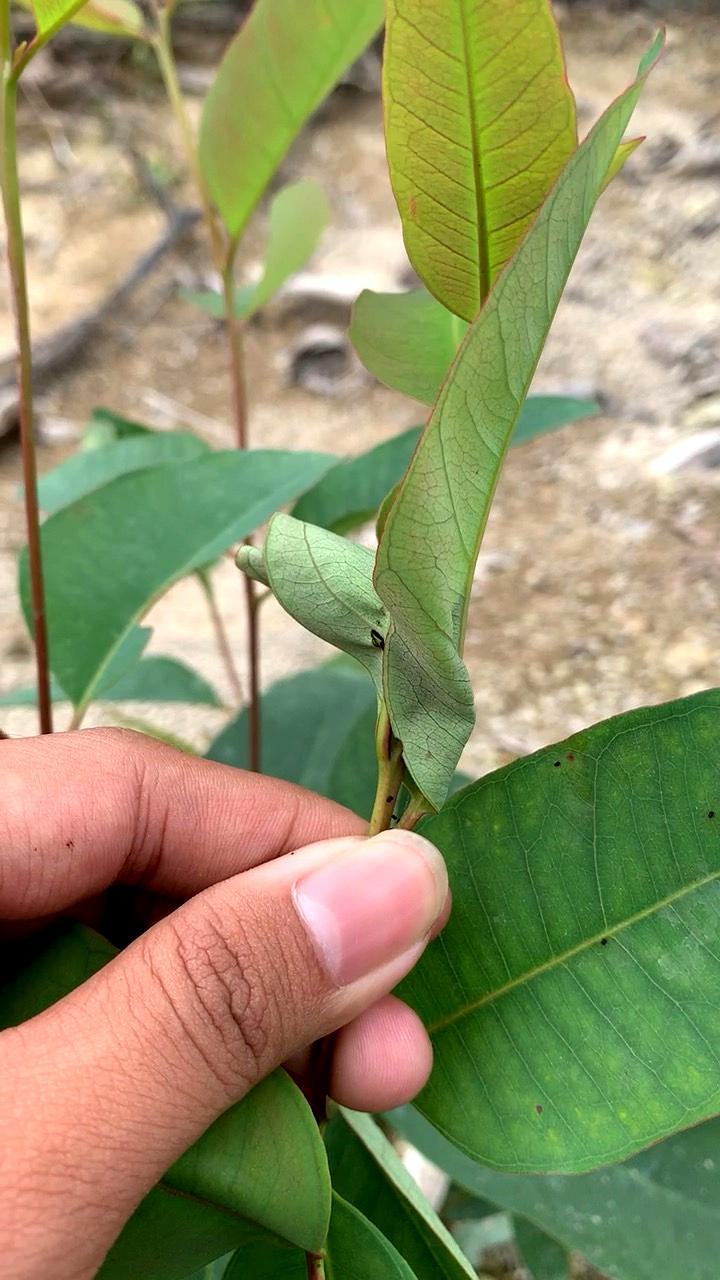Leaf Roller - Leaf: (228, 503, 511, 742)
